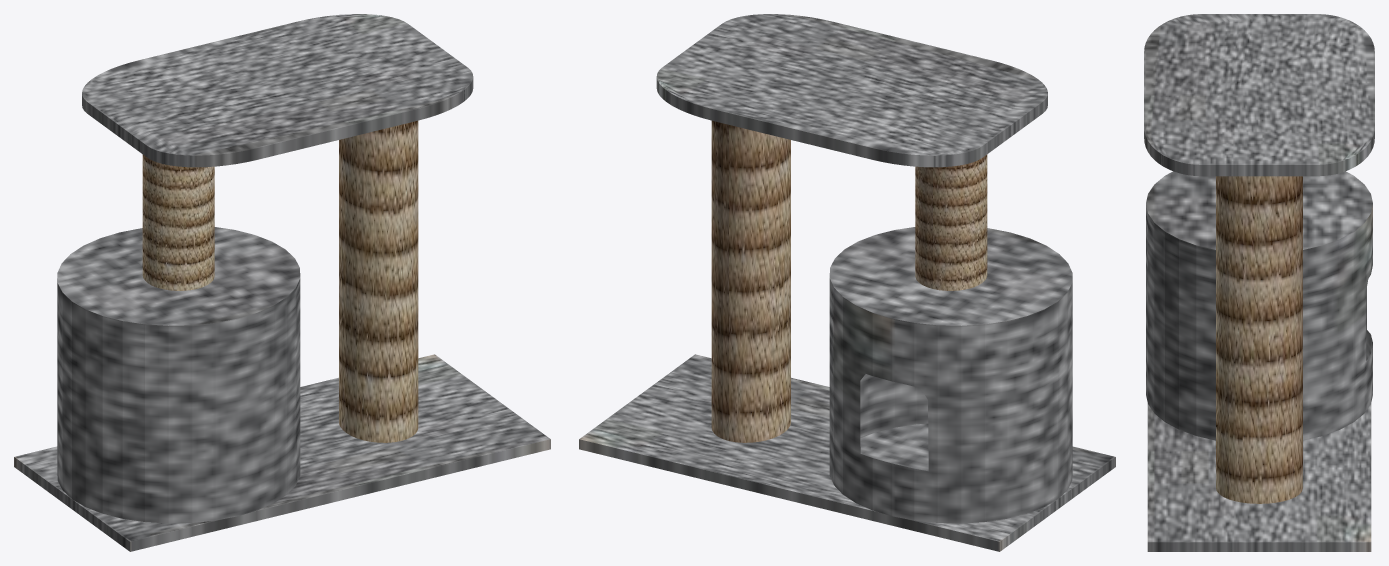
File: house1.gltf
The picture shows the model from 3 angles, left to right: view 1: azimuth 30°, elevation 25°; view 2: azimuth 150°, elevation 25°; view 3: azimuth 270°, elevation 25°; orthographic projection. The views are drawn at different scales.
Visible parts, largest first — view 1: Цилиндр, Плоскость.001, Цилиндр.001, Плоскость, Цилиндр.002; view 2: Цилиндр, Плоскость.001, Цилиндр.001, Плоскость, Цилиндр.002; view 3: Плоскость.001, Цилиндр, Цилиндр.001, Плоскость.
Boxes of the visible parts, x1,y1,x2,y2 form: Цилиндр: [57, 227, 300, 523]; Плоскость.001: [82, 14, 473, 167]; Цилиндр.001: [339, 120, 418, 442]; Плоскость: [14, 354, 550, 551]; Цилиндр.002: [142, 154, 214, 290]; Цилиндр: [829, 227, 1072, 523]; Плоскость.001: [656, 14, 1047, 167]; Цилиндр.001: [711, 120, 790, 442]; Плоскость: [579, 354, 1115, 551]; Цилиндр.002: [915, 154, 987, 290]; Плоскость.001: [1144, 14, 1374, 176]; Цилиндр: [1146, 171, 1372, 440]; Цилиндр.001: [1216, 176, 1302, 503]; Плоскость: [1147, 403, 1371, 551].
Bounding box in the file's own units: 4.06 × 3.45 × 2.
Materials: 5 (5 with a texture image).
